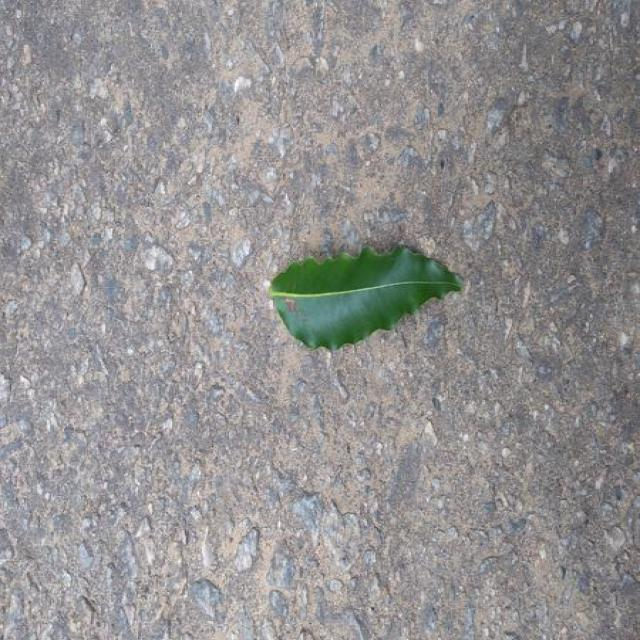ashoka: (270, 246, 462, 349)
